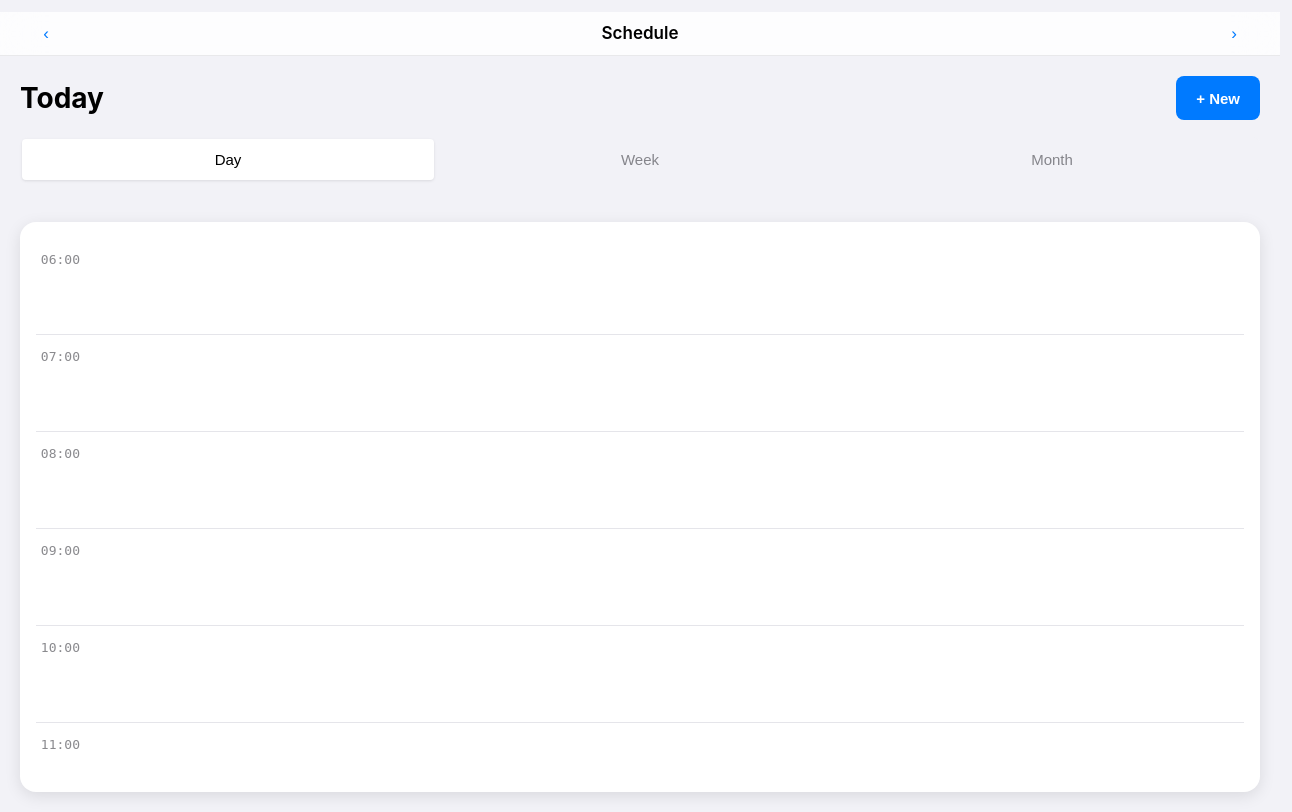
Test case: Responsive Calendar Integration › should recover from height calculation errors
Note: Switch to month view
Click the button "Month".
click(1052, 159)  # box [846,139,1258,180]
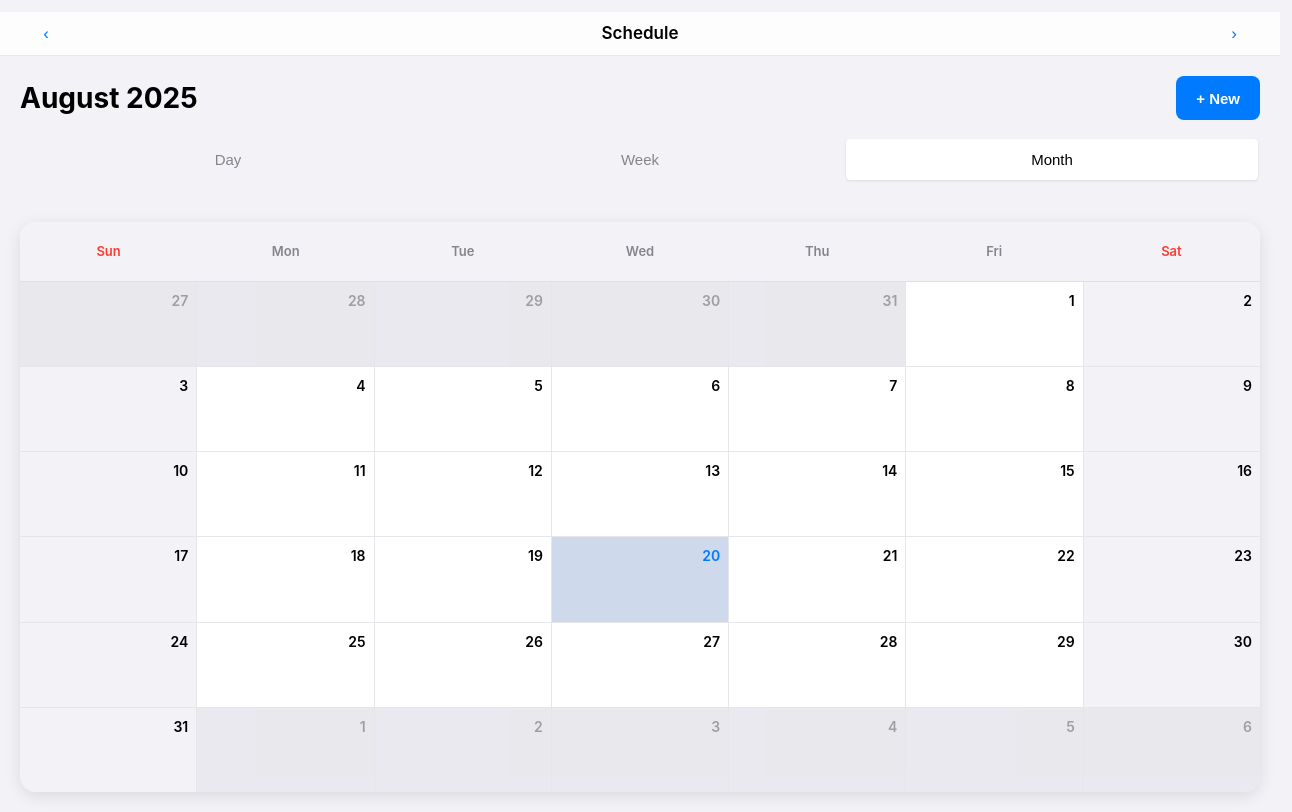
Expected: the element with class "apple-month-view" is shown
